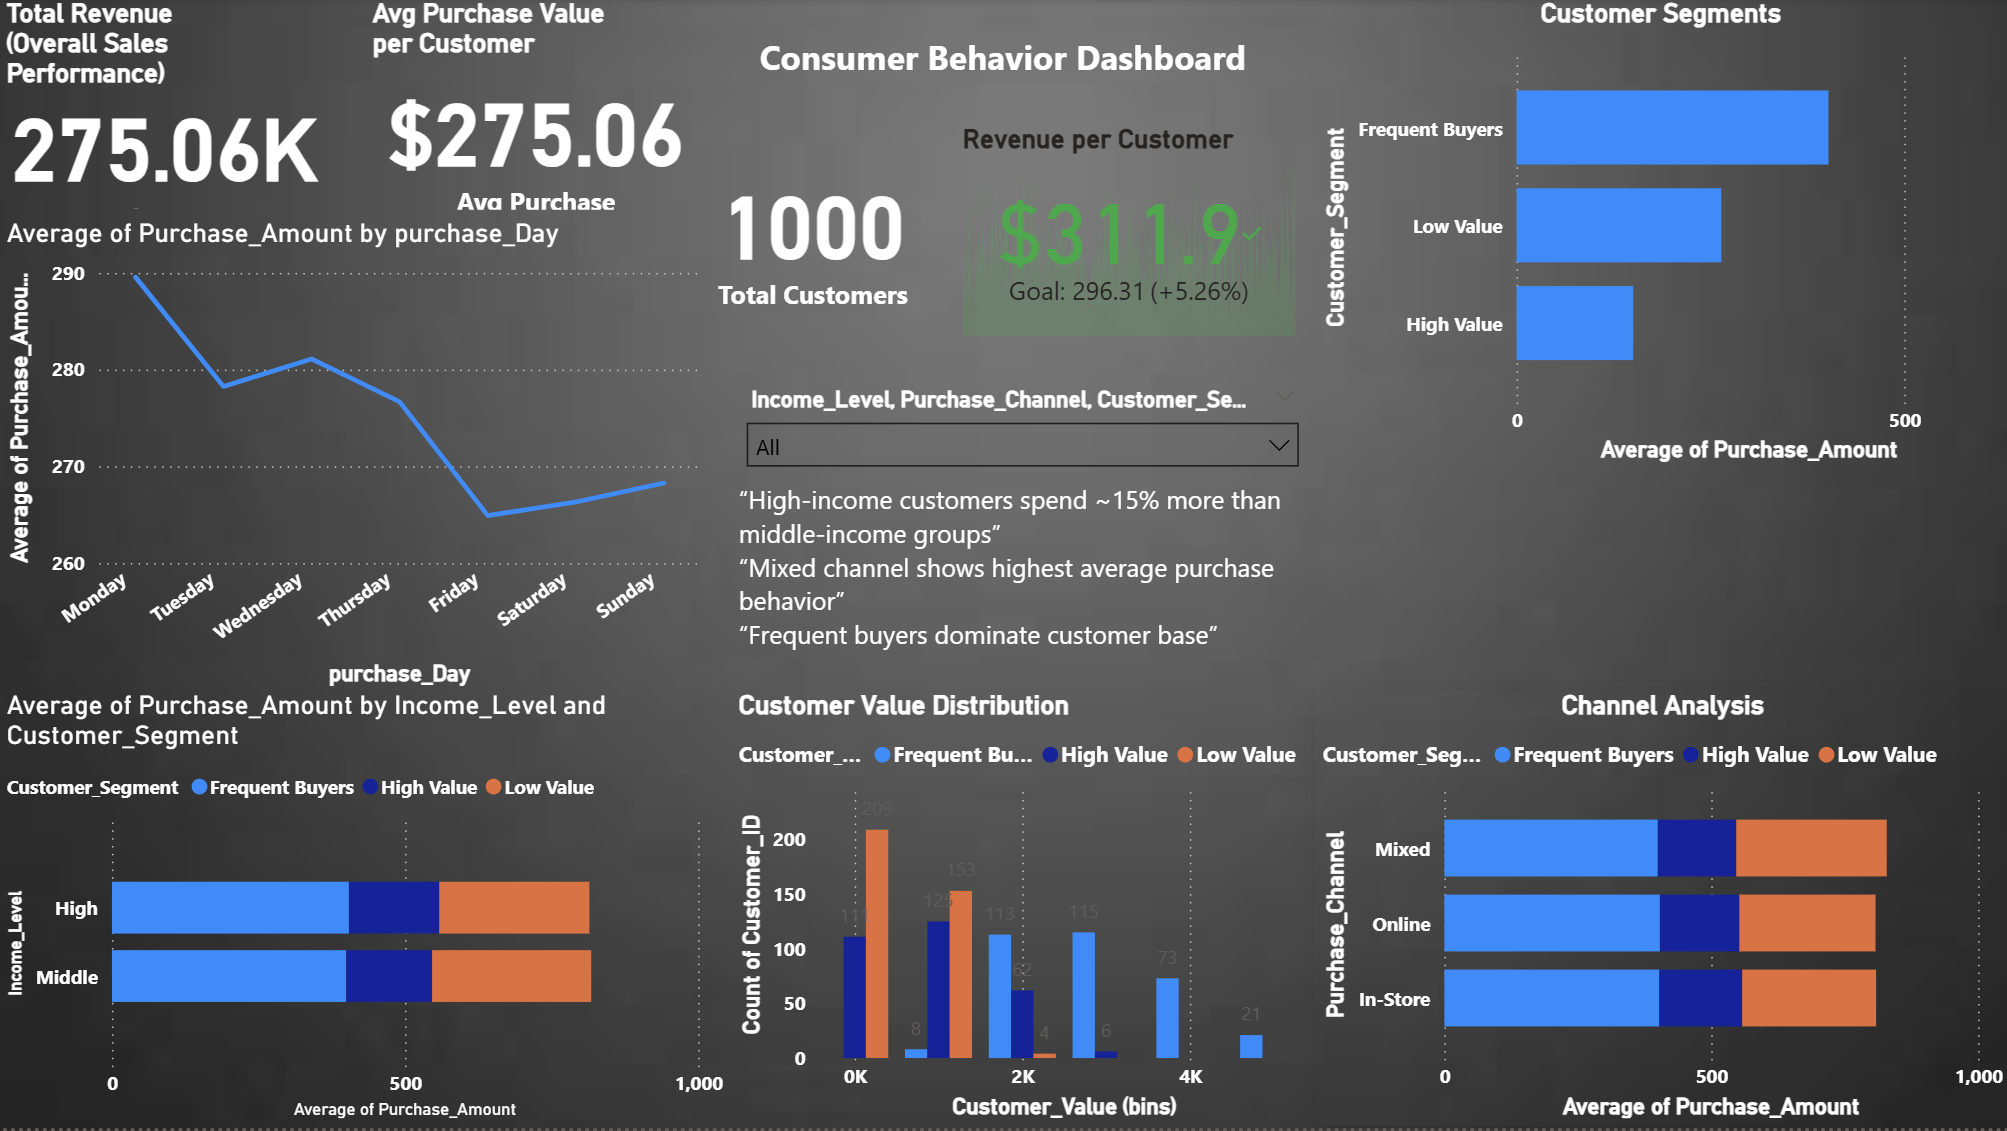

The dashboard page shown, as its layout file describes it:
{"tool":"powerbi","page":{"name":"Page 1","canvas":[1280,720],"ordinal":0},"visuals":[{"type":"card","title":"Total Revenue (Overall Sales Performance)","fields":{"Values":["cleaned_consumer_data.Total Revenue"]},"box":[0,0,210.4,139],"z":0},{"type":"card","title":"Avg Purchase Value per Customer","fields":{"Values":["cleaned_consumer_data.Avg Purchase"]},"box":[233.3,0,218,140.2],"z":1000},{"type":"card","fields":{"Values":["cleaned_consumer_data.Total Customers"]},"box":[428.4,80.3,181,140.2],"z":2000},{"type":"barChart","fields":{"Y":["Avg(cleaned_consumer_data.Purchase_Amount)"],"Category":["cleaned_consumer_data.Income_Level"],"Series":["cleaned_consumer_data.Customer_Segment"]},"box":[0,441.1,466.6,277.9],"z":3000},{"type":"barChart","title":"Customer Segments","fields":{"Category":["cleaned_consumer_data.Customer_Segment"],"Y":["Avg(cleaned_consumer_data.Purchase_Amount)"]},"box":[838.9,0,441.1,300.9],"z":4000},{"type":"barChart","title":"Channel Analysis","fields":{"Category":["cleaned_consumer_data.Purchase_Channel"],"Y":["Avg(cleaned_consumer_data.Purchase_Amount)"],"Series":["cleaned_consumer_data.Customer_Segment"]},"box":[838.9,441.1,443.7,277.9],"z":5000},{"type":"lineChart","fields":{"Y":["Avg(cleaned_consumer_data.Purchase_Amount)"],"Category":["cleaned_consumer_data.purchase_Day"]},"box":[0,140.2,451.3,303.4],"z":6000},{"type":"slicer","fields":{"Values":["cleaned_consumer_data.Income_Level","cleaned_consumer_data.Purchase_Channel","cleaned_consumer_data.Customer_Segment"]},"box":[467,241.9,372.1,199],"z":7000},{"type":"textbox","box":[0,0,1280,57.4],"z":8000},{"type":"textbox","box":[466.6,303.4,372.3,140.2],"z":9000},{"type":"clusteredColumnChart","title":"Customer Value Distribution","fields":{"Category":["cleaned_consumer_data.Customer_Value (bins)"],"Series":["cleaned_consumer_data.Customer_Segment"],"Y":["CountNonNull(cleaned_consumer_data.Customer_ID)"]},"box":[466.6,441.1,372.3,277.9],"z":9001},{"type":"kpi","title":"Revenue per Customer","fields":{"Indicator":["cleaned_consumer_data.Revenue_per_Customer"],"TrendLine":["cleaned_consumer_data.Time_of_Purchase"],"Goal":["cleaned_consumer_data.Target_RPC"]},"box":[609.4,80.3,221.8,140.2],"z":9002}]}

Visuals, with their boxes in screenshot pixels (x1, y1, x2, y2), scaled from the page's 1280x720 canvas onto the 2007x1131 screenshot:
"Total Revenue (Overall Sales Performance)" card: 0, 0, 330, 218
"Avg Purchase Value per Customer" card: 366, 0, 708, 220
card - cleaned_consumer_data.Total Customers: 672, 126, 956, 346
barChart - Avg(cleaned_consumer_data.Purchase_Amount) x cleaned_consumer_data.Income_Level: 0, 693, 732, 1129
"Customer Segments" barChart: 1315, 0, 2006, 473
"Channel Analysis" barChart: 1315, 693, 2006, 1129
lineChart - Avg(cleaned_consumer_data.Purchase_Amount) x cleaned_consumer_data.purchase_Day: 0, 220, 708, 697
slicer - cleaned_consumer_data.Income_Level x cleaned_consumer_data.Purchase_Channel: 732, 380, 1316, 693
textbox: 0, 0, 2006, 90
textbox: 732, 477, 1315, 697
"Customer Value Distribution" clusteredColumnChart: 732, 693, 1315, 1129
"Revenue per Customer" kpi: 956, 126, 1303, 346
